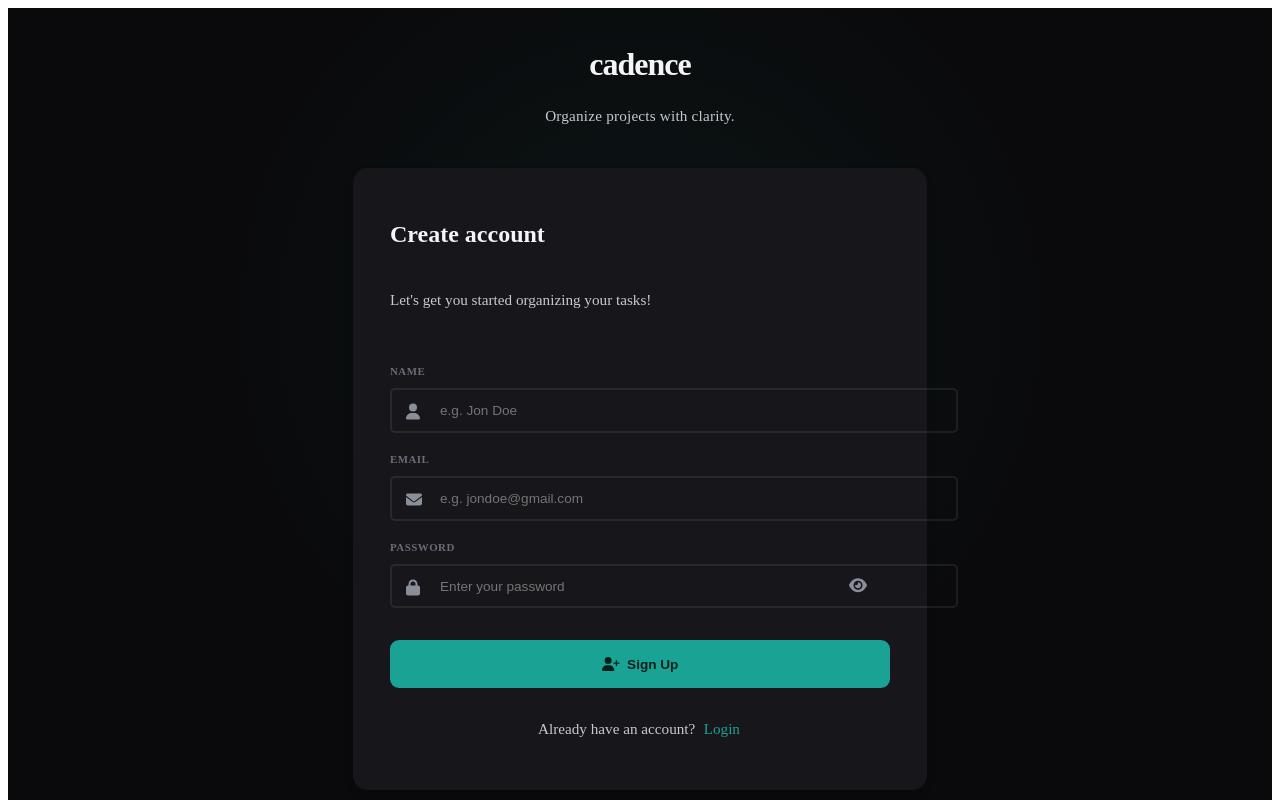
Register page › requires a lowercase letter in the password
The image size is (1280, 800).
Step 1. Type "Jon Doe" into the field labelled "Name" → (674,411), box x1=390 y1=388 x2=958 y2=433
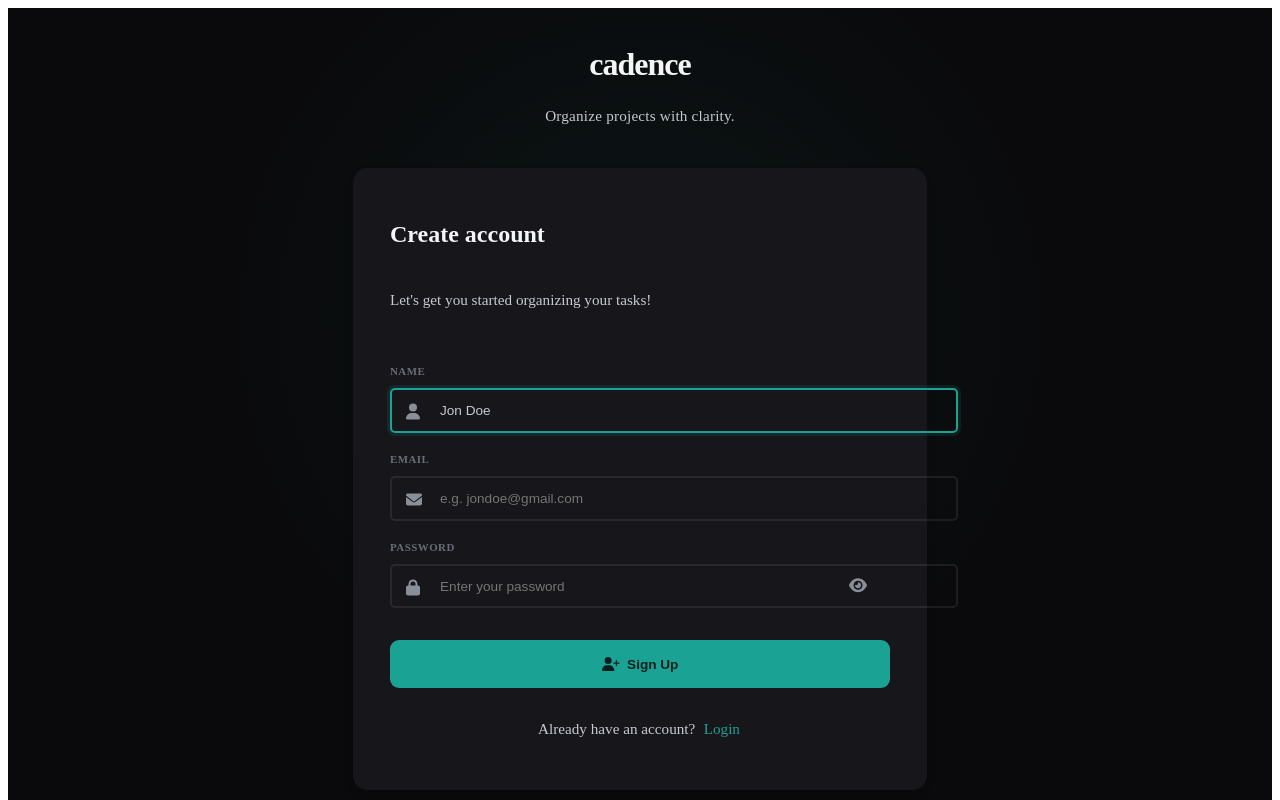
Step 2. Type "jon@doe.com" into the field labelled "Email" → (674,498), box x1=390 y1=476 x2=958 y2=521
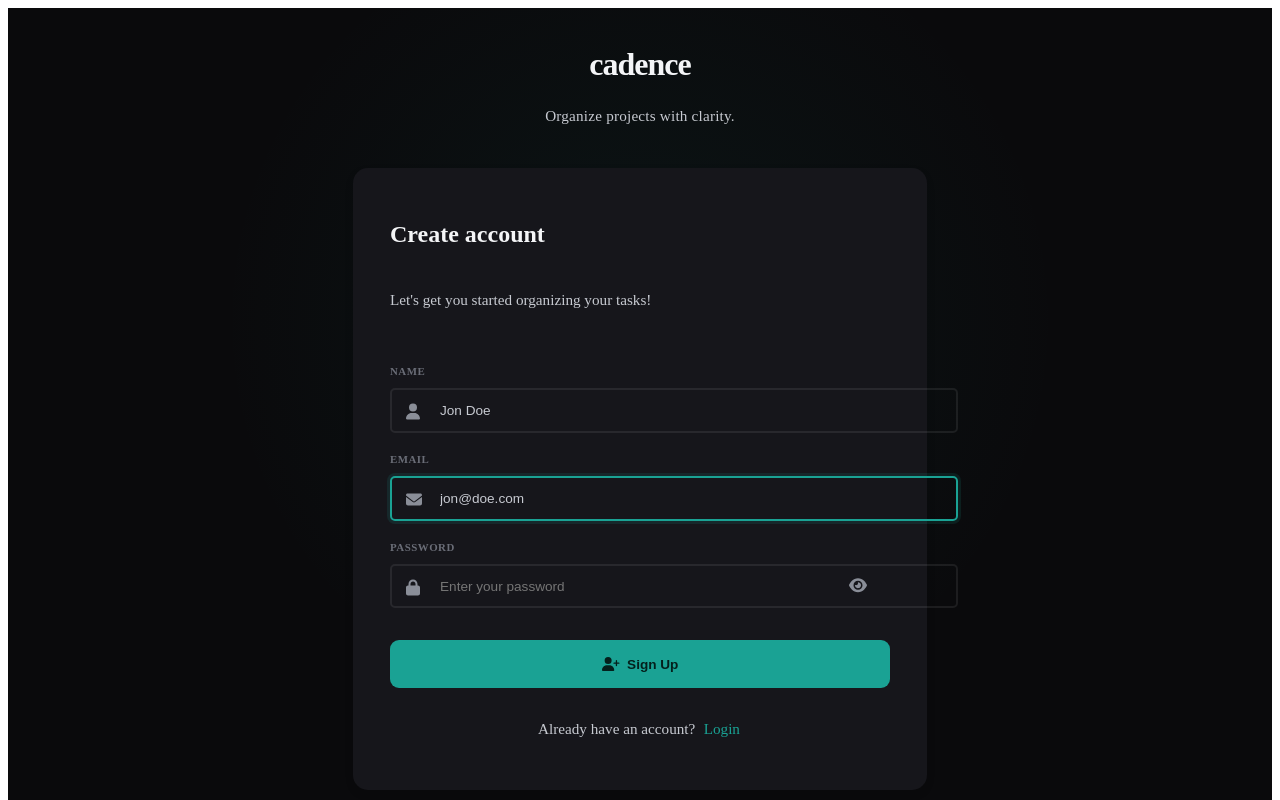
Step 3. Type "ABCDEFG1" into the password field labelled "Password" → (674,586), box x1=390 y1=564 x2=958 y2=608
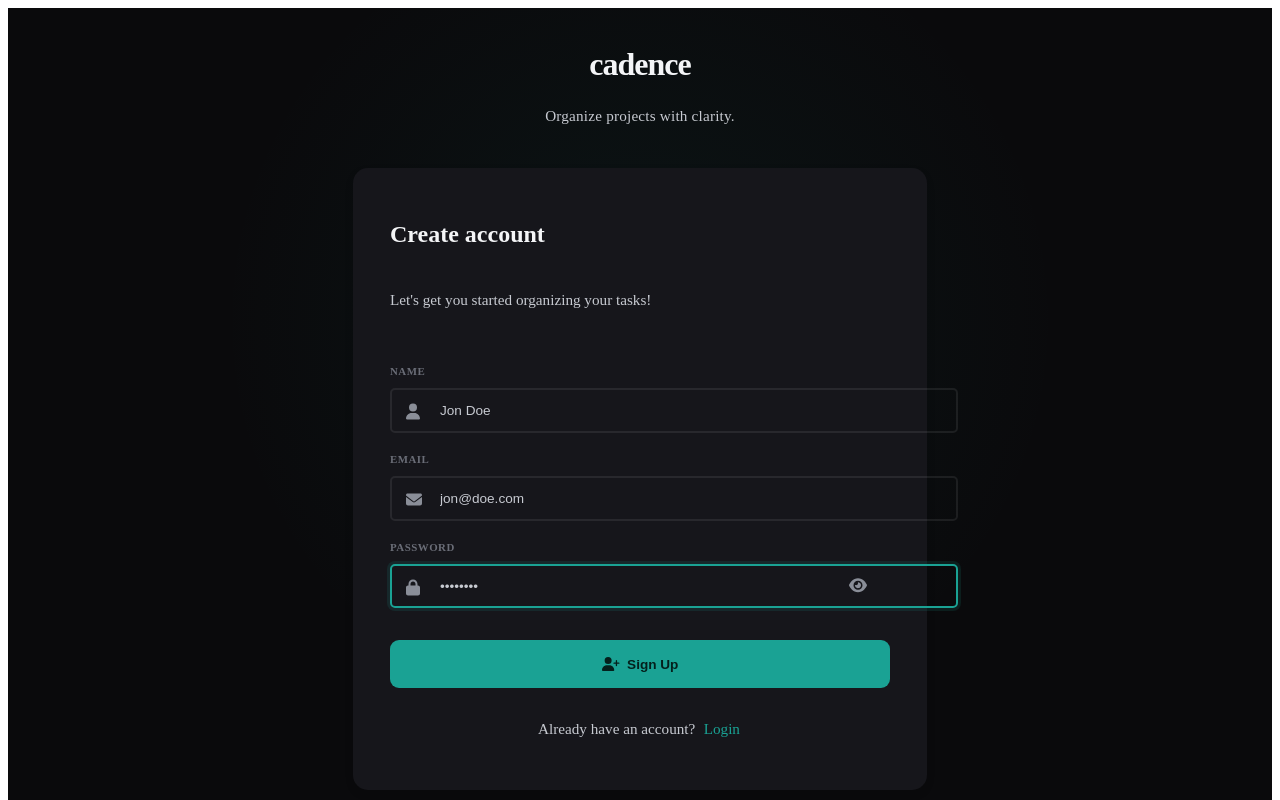
Step 4. Click the button "Sign Up" → (640,664), box x1=390 y1=640 x2=890 y2=688
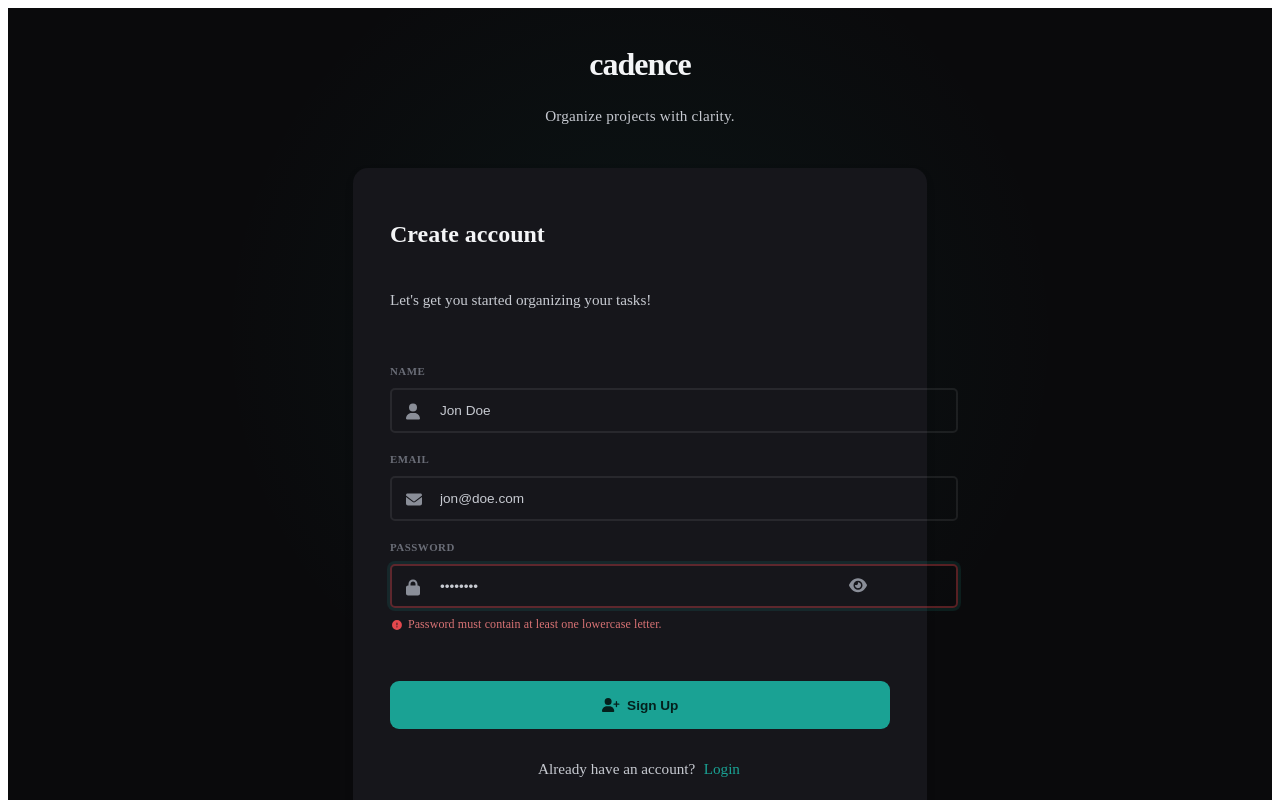
Expected: the text "Password must contain at least one lowercase letter." is shown, x1=408 y1=616 x2=662 y2=633
